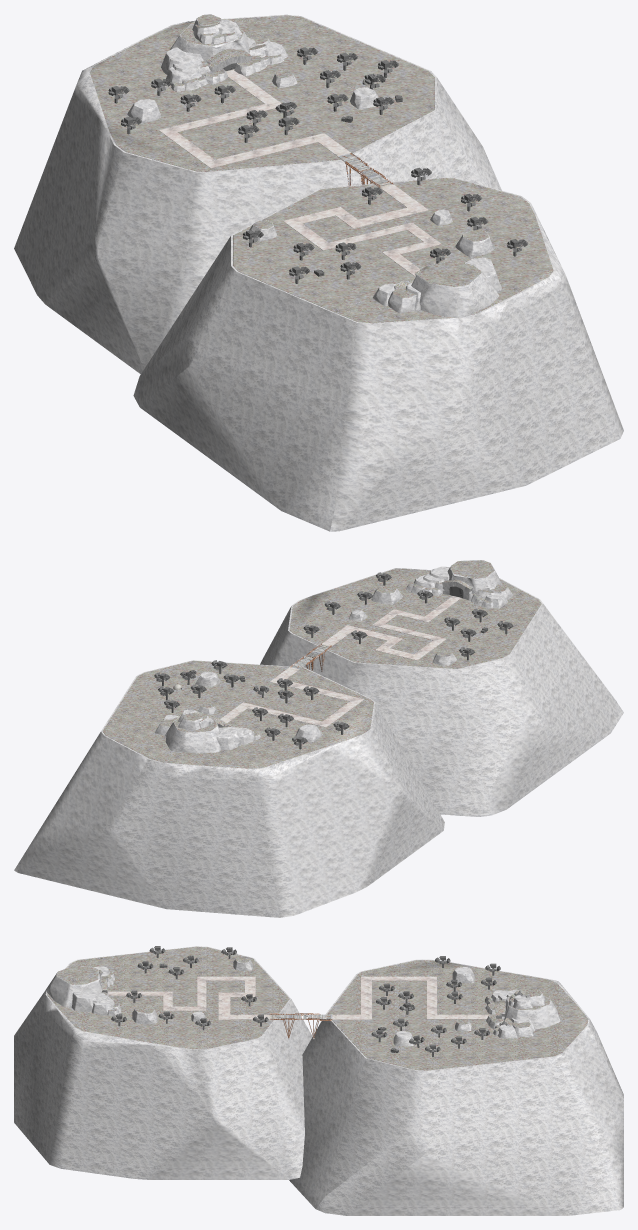
Rendered from tdsmappy.fbx.
3 views of the same model, one above another, from view 1: azimuth 30°, elevation 25°; view 2: azimuth 150°, elevation 25°; view 3: azimuth 270°, elevation 25° (orthographic). The views are drawn at different scales.
Parts seen in each view (by area): view 1: tdsmappy; view 2: tdsmappy; view 3: tdsmappy.
Boxes of the visible parts, bbox=[...] form: tdsmappy: bbox=[14, 14, 623, 531]; tdsmappy: bbox=[14, 560, 623, 917]; tdsmappy: bbox=[14, 946, 623, 1215].
Size of the model in its own units: 9165 by 4109 by 14864.
Materials: 14 (14 with a texture image).
